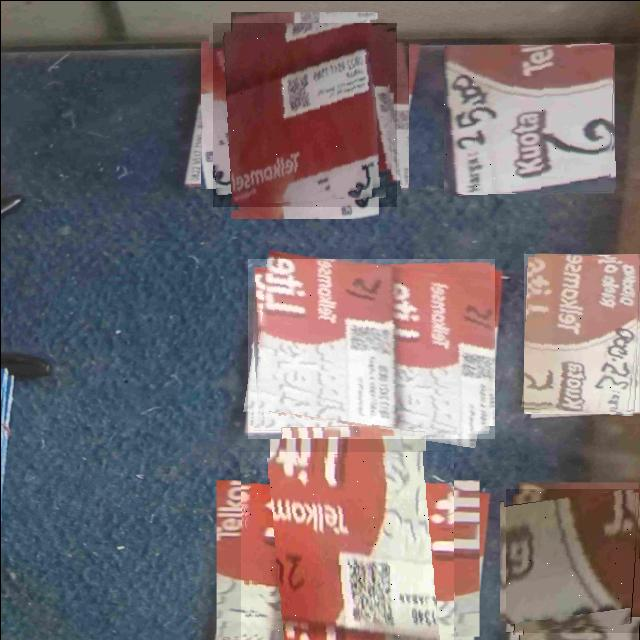Telkomsel: (247, 258, 494, 438), (240, 451, 453, 640), (212, 22, 396, 206), (443, 44, 614, 193), (505, 488, 640, 632), (523, 253, 640, 413)
